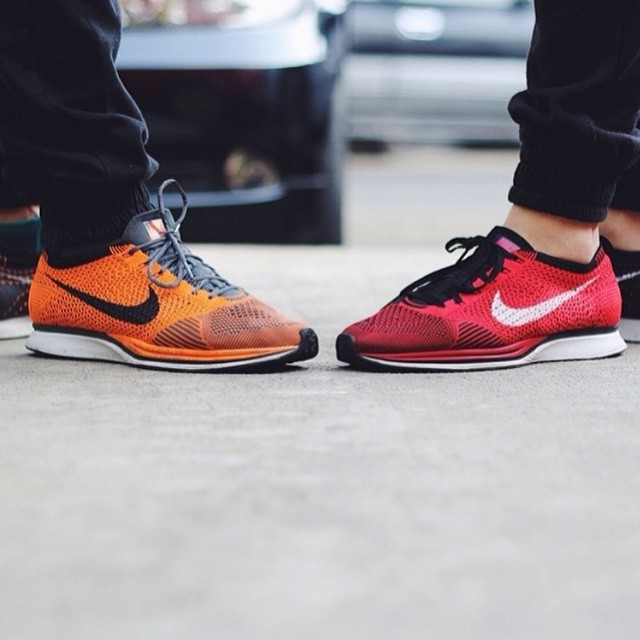sneaker: (14, 174, 333, 386), (319, 214, 632, 386)
